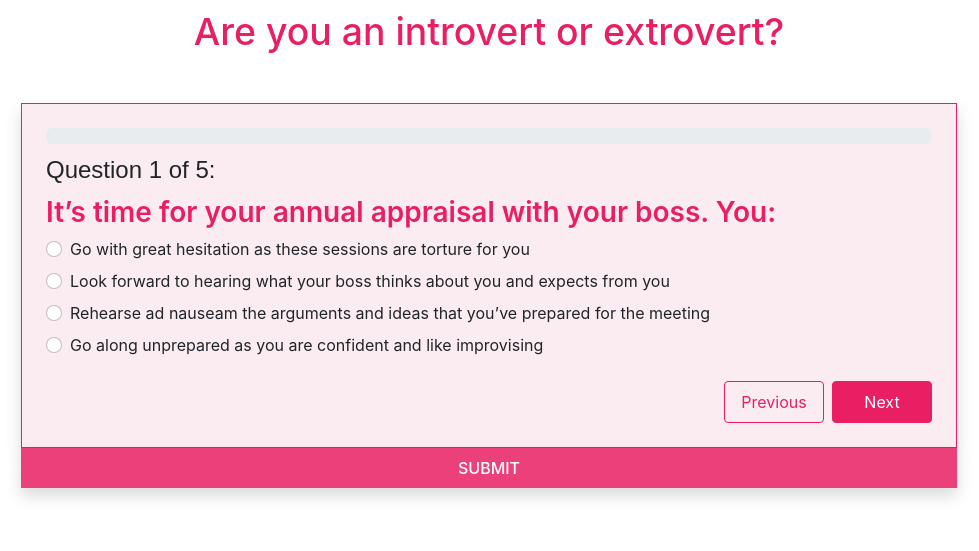
Scenario: Test the personality test page › click on next button renders the next question
Click the button "Next": (882, 402) x1=832 y1=381 x2=932 y2=423
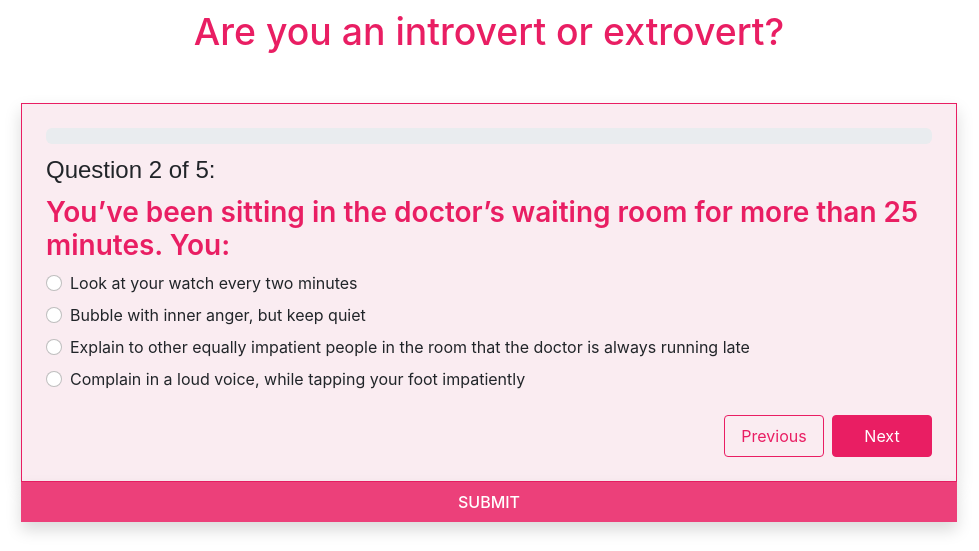
Expected: the text "Question 2 of 5:" is shown, x1=46 y1=156 x2=216 y2=183
Expected: the text "You’ve been sitting in the doctor’s waiting room for more than 25 minutes. You:" is shown, x1=46 y1=196 x2=932 y2=263
Expected: the text "Look at your watch every two minutes" is shown, x1=70 y1=271 x2=358 y2=295
